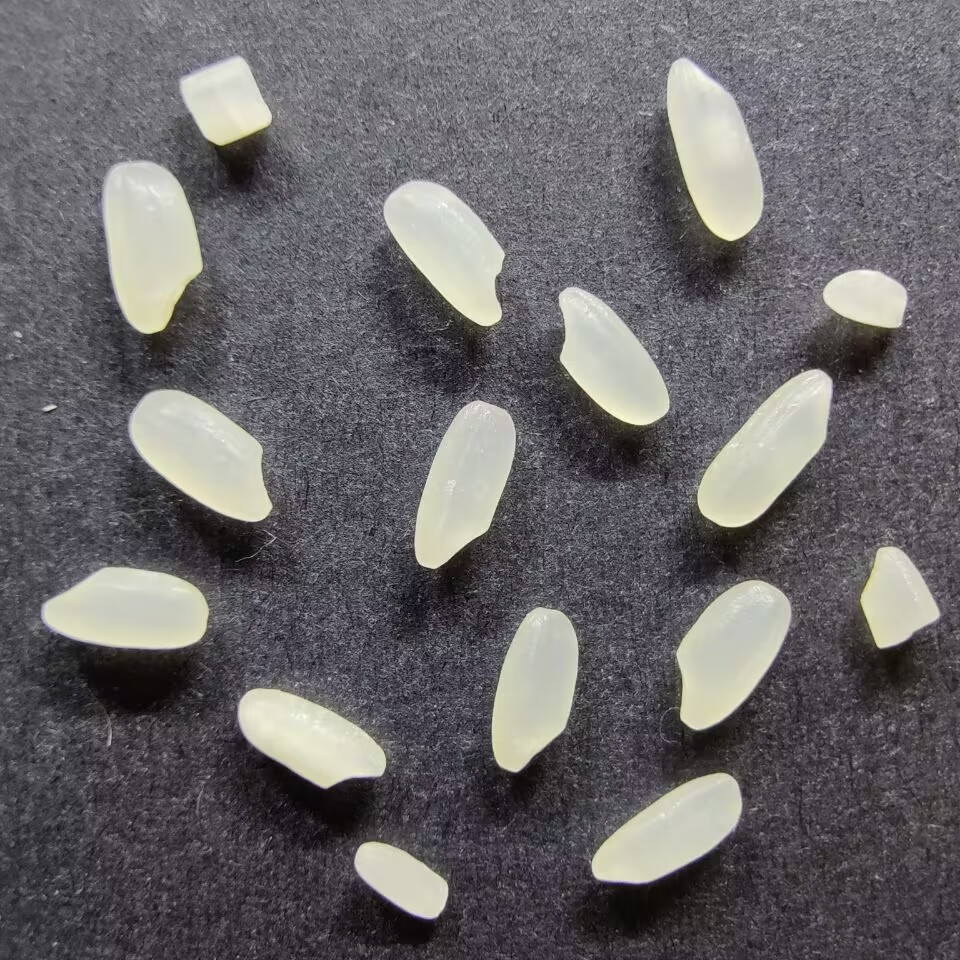broken: (179, 56, 277, 146), (858, 544, 941, 649), (352, 837, 450, 922), (820, 265, 908, 329)
rice: (694, 367, 835, 528), (125, 387, 275, 524), (664, 54, 766, 242), (671, 579, 794, 732), (381, 179, 506, 328), (411, 398, 519, 569), (589, 770, 744, 886), (102, 160, 204, 335), (556, 285, 672, 426), (236, 686, 392, 790), (489, 604, 580, 774), (39, 565, 211, 650)
